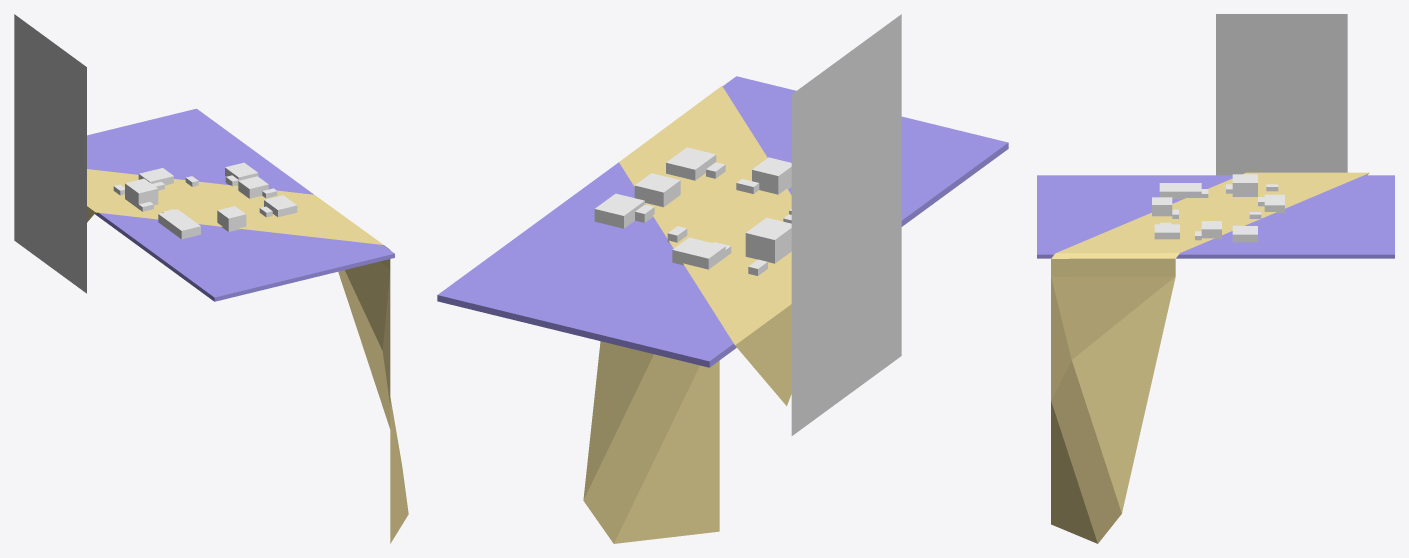
File: pageLayout.glb
3 views of the same model, side by side, from view 1: azimuth 30°, elevation 25°; view 2: azimuth 150°, elevation 25°; view 3: azimuth 270°, elevation 25° (orthographic). The views are drawn at different scales.
Visible parts, largest first — view 1: deskPlane, pictureFrame, papperPlane, neighboar_002, neighboar_005, neighboar_003, neighboar_010, neighboar_012; view 2: papperPlane, deskPlane, pictureFrame, neighboar_005, neighboar_001, neighboar_015, neighboar_012, neighboar_003, neighboar_010; view 3: papperPlane, pictureFrame, deskPlane, neighboar_002, neighboar_005, neighboar_015.
Part boxes in pixels (x1,y1,x2,y2): deskPlane: (87, 108, 394, 301); pictureFrame: (14, 14, 86, 293); papperPlane: (87, 169, 408, 543); neighboar_002: (158, 209, 200, 239); neighboar_005: (125, 178, 158, 208); neighboar_003: (217, 206, 246, 231); neighboar_010: (264, 195, 297, 217); neighboar_012: (238, 176, 268, 198); papperPlane: (583, 86, 791, 543); deskPlane: (437, 76, 1008, 367); pictureFrame: (791, 14, 901, 435); neighboar_005: (745, 217, 791, 263); neighboar_001: (672, 237, 725, 269); neighboar_015: (594, 193, 644, 228); neighboar_012: (634, 173, 680, 207); neighboar_003: (752, 157, 791, 194); neighboar_010: (666, 147, 716, 180); papperPlane: (1051, 172, 1369, 543); pictureFrame: (1216, 14, 1347, 175); deskPlane: (1037, 175, 1394, 258); neighboar_002: (1159, 183, 1201, 199); neighboar_005: (1232, 174, 1257, 196); neighboar_015: (1232, 226, 1257, 242).
Size of the model in its own units: 163 by 273 by 212.
